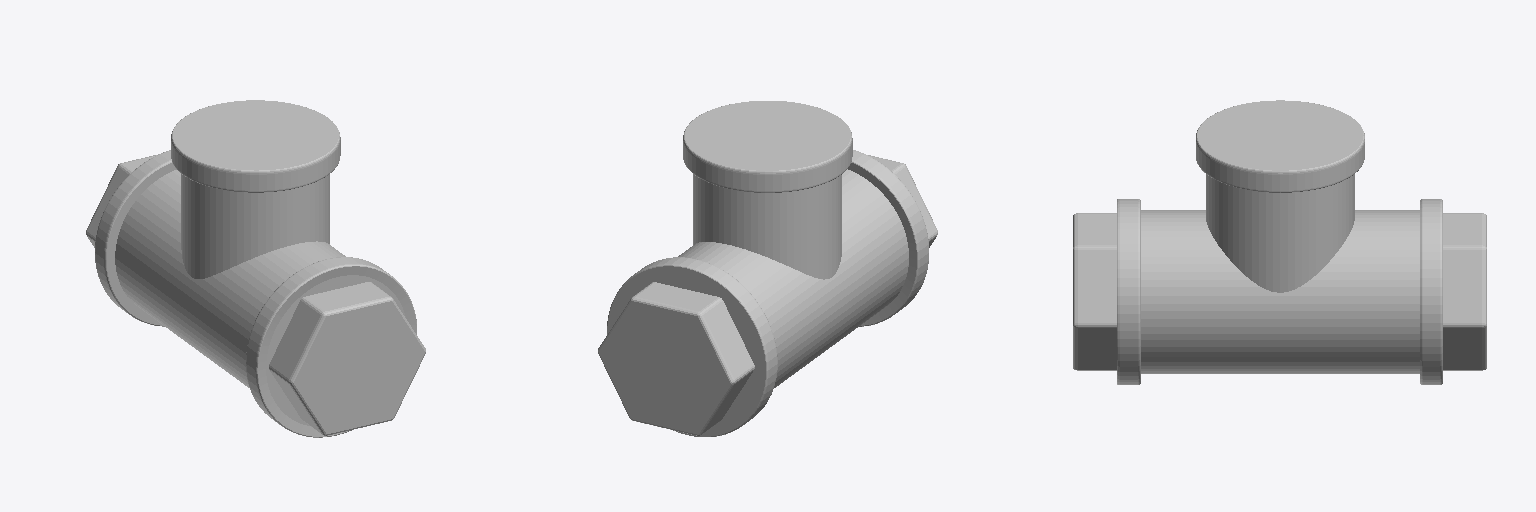
Rendered from zlatarura s.obj.
The picture shows the model from 3 angles: view 1: azimuth 30°, elevation 25°; view 2: azimuth 150°, elevation 25°; view 3: azimuth 270°, elevation 25°; orthographic projection.
Parts seen in each view (by area): view 1: Cylinder_Cylinder.022, Cylinder.004_Cylinder.023, Cylinder.006_Cylinder.025, Cylinder.007_Cylinder.026; view 2: Cylinder_Cylinder.022, Cylinder.004_Cylinder.023, Cylinder.007_Cylinder.026, Cylinder.006_Cylinder.025; view 3: Cylinder_Cylinder.022, Cylinder.004_Cylinder.023, Cylinder.007_Cylinder.026, Cylinder.006_Cylinder.025.
Part boxes in pixels (left/top/right/bottom): Cylinder_Cylinder.022: left=95, top=150, right=416, bottom=437; Cylinder.004_Cylinder.023: left=171, top=100, right=340, bottom=278; Cylinder.006_Cylinder.025: left=269, top=282, right=425, bottom=435; Cylinder.007_Cylinder.026: left=86, top=154, right=158, bottom=247; Cylinder_Cylinder.022: left=607, top=150, right=928, bottom=436; Cylinder.004_Cylinder.023: left=683, top=101, right=852, bottom=279; Cylinder.007_Cylinder.026: left=598, top=282, right=754, bottom=435; Cylinder.006_Cylinder.025: left=868, top=155, right=937, bottom=247; Cylinder_Cylinder.022: left=1117, top=199, right=1442, bottom=384; Cylinder.004_Cylinder.023: left=1196, top=100, right=1364, bottom=292; Cylinder.007_Cylinder.026: left=1443, top=213, right=1486, bottom=370; Cylinder.006_Cylinder.025: left=1073, top=213, right=1116, bottom=370.
Size of the model in its own units: 0.1944 by 0.2772 by 0.4318.